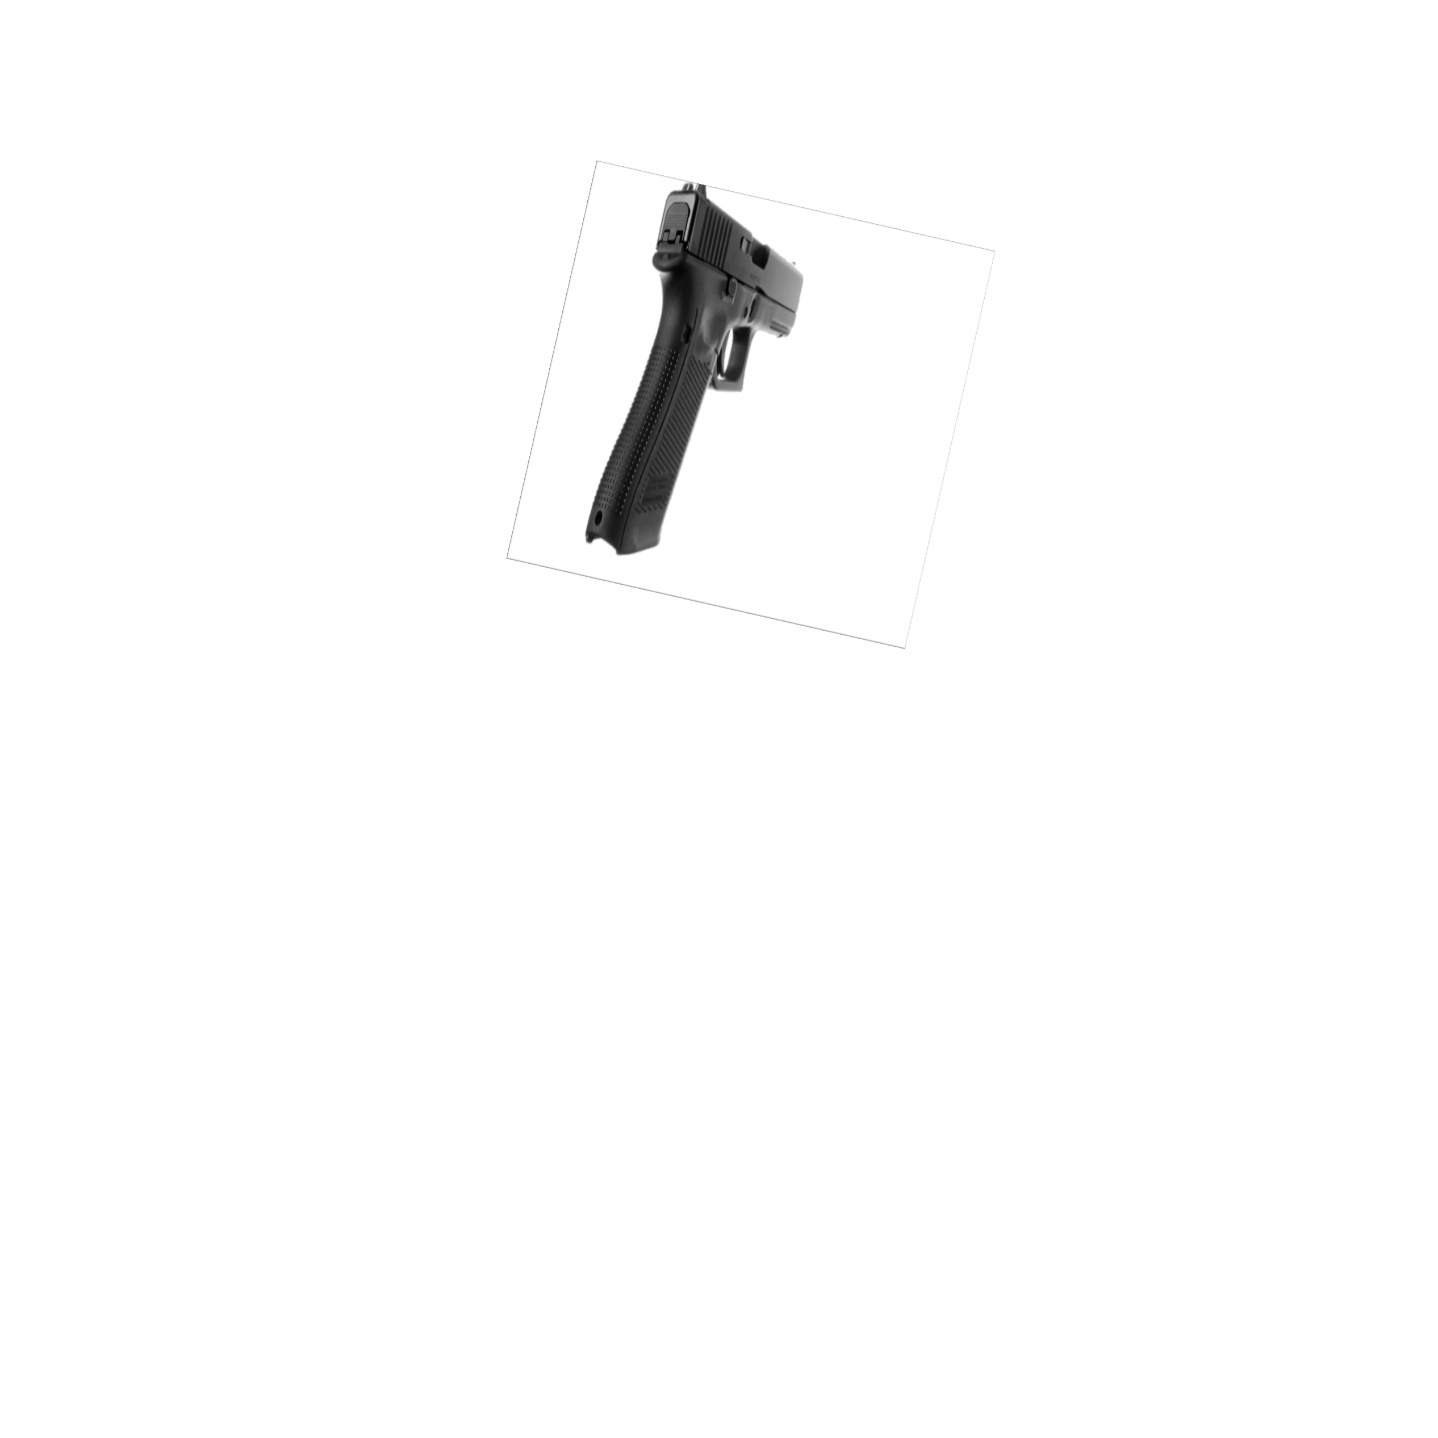gun: (575, 175, 815, 564)
